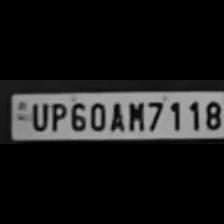0: (86, 98, 106, 132)
1: (164, 98, 184, 132), (183, 98, 200, 132)
6: (66, 98, 88, 132)
7: (144, 98, 164, 132)
8: (200, 99, 222, 131)
A: (107, 98, 125, 132)
M: (124, 98, 144, 132)
P: (48, 100, 66, 132)
U: (26, 99, 48, 130)
